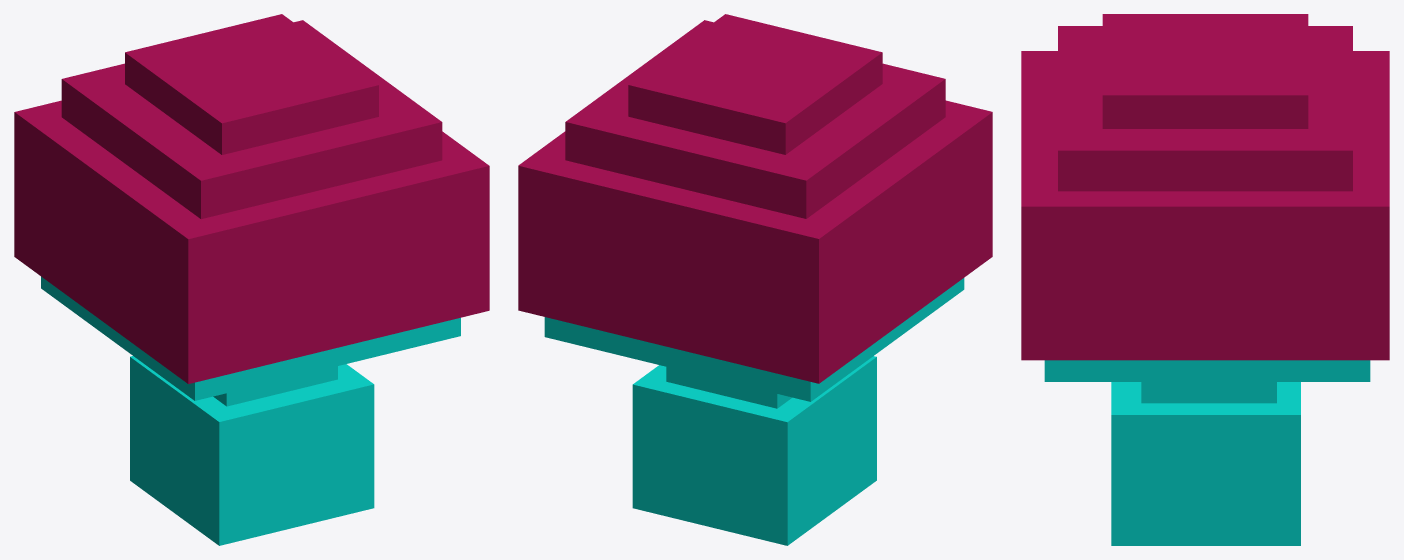
File: Mushroom 1.glb
3 renders of one model, left to right at view 1: azimuth 30°, elevation 25°; view 2: azimuth 150°, elevation 25°; view 3: azimuth 270°, elevation 25°, orthographic. The views are drawn at different scales.
Visible parts, largest first — view 1: Cube.001, Cube, Cube.012, Cube.002, Cube.004, Cube.003; view 2: Cube.001, Cube, Cube.012, Cube.002, Cube.004, Cube.003; view 3: Cube.001, Cube, Cube.012, Cube.002, Cube.004, Cube.003.
Part boxes in pixels (x1,y1,x2,y2): Cube.001: [14, 100, 489, 383]; Cube: [130, 356, 374, 545]; Cube.012: [61, 20, 442, 219]; Cube.002: [125, 14, 378, 154]; Cube.004: [41, 276, 460, 400]; Cube.003: [213, 366, 337, 406]; Cube.001: [518, 100, 992, 383]; Cube: [632, 356, 876, 545]; Cube.012: [565, 20, 945, 218]; Cube.002: [628, 14, 882, 154]; Cube.004: [544, 278, 964, 401]; Cube.003: [666, 367, 792, 408]; Cube.001: [1021, 51, 1389, 360]; Cube: [1111, 382, 1300, 545]; Cube.012: [1058, 26, 1352, 191]; Cube.002: [1102, 14, 1308, 128]; Cube.004: [1044, 360, 1370, 381]; Cube.003: [1141, 382, 1276, 403].
Size of the model in its own units: 0.2068 by 0.2796 by 0.2068.
